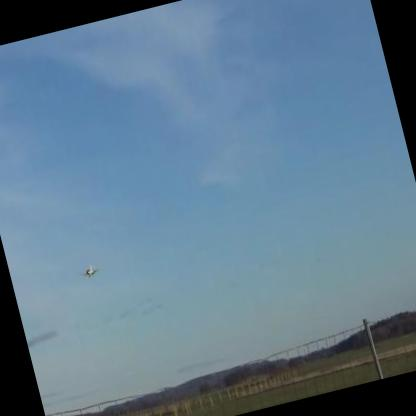plane: (80, 263, 101, 280)
